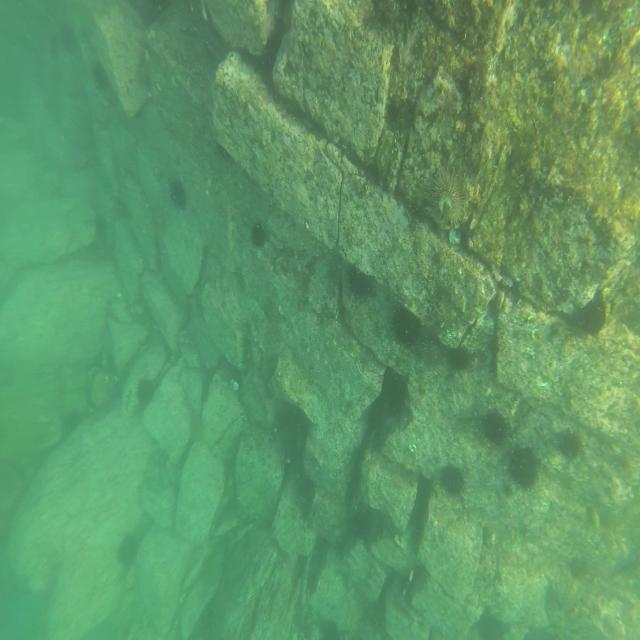echinus: (425, 164, 475, 228), (508, 441, 542, 493), (578, 287, 610, 342), (387, 299, 421, 349), (346, 257, 376, 305), (479, 406, 514, 446), (438, 461, 467, 503), (557, 427, 586, 465), (419, 328, 444, 370), (116, 530, 142, 568), (447, 338, 472, 376), (58, 16, 83, 54), (92, 58, 114, 96), (567, 549, 587, 588), (136, 374, 156, 412), (168, 179, 187, 214), (61, 408, 82, 438), (92, 210, 110, 244), (251, 217, 268, 250)
